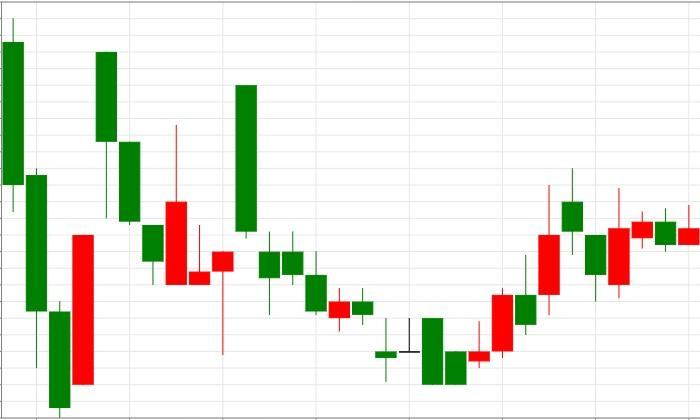bullish_engulfing_rise: (96, 51, 188, 285)
three_black_crows_fall: (49, 51, 165, 417)
